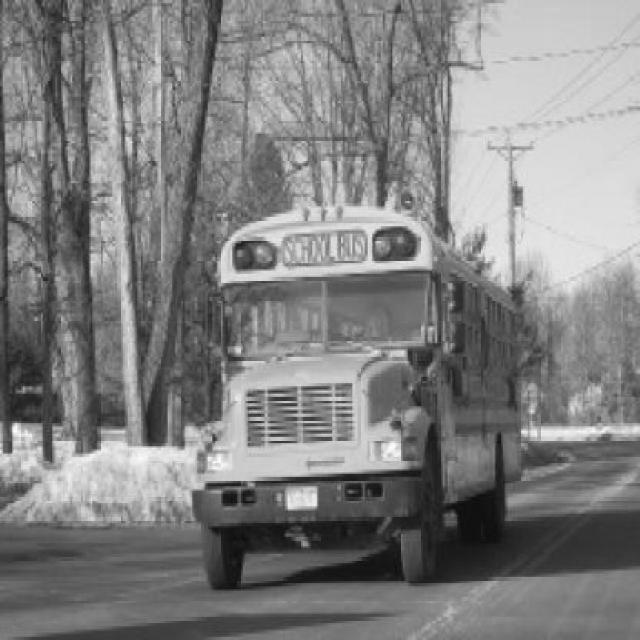Bus: (190, 206, 526, 592)
